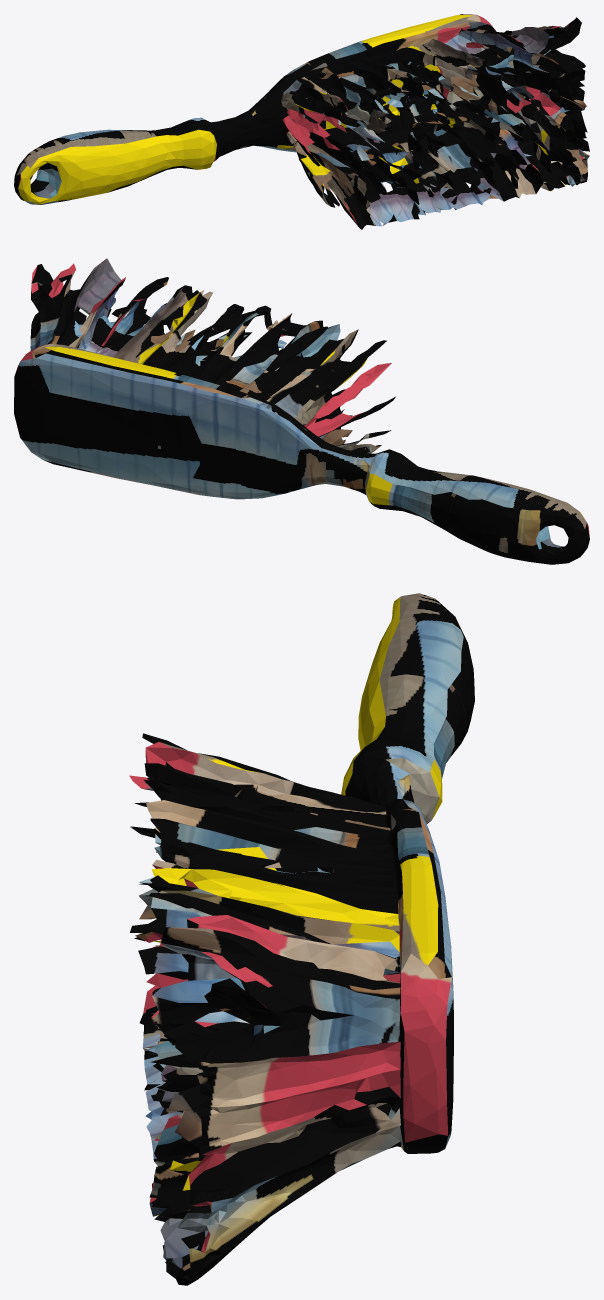
File: red_brush.obj
3 views of the same model, one above another, from view 1: azimuth 30°, elevation 25°; view 2: azimuth 150°, elevation 25°; view 3: azimuth 270°, elevation 25° (orthographic). The views are drawn at different scales.
Visible parts, largest first — view 1: red_brush.obj; view 2: red_brush.obj; view 3: red_brush.obj.
Part boxes in pixels (<box>): red_brush.obj: <box>14,14,589,229</box>; red_brush.obj: <box>14,258,589,564</box>; red_brush.obj: <box>129,593,474,1285</box>.
Bounding box in the file's own units: 0.3191 × 0.095 × 0.0926.
